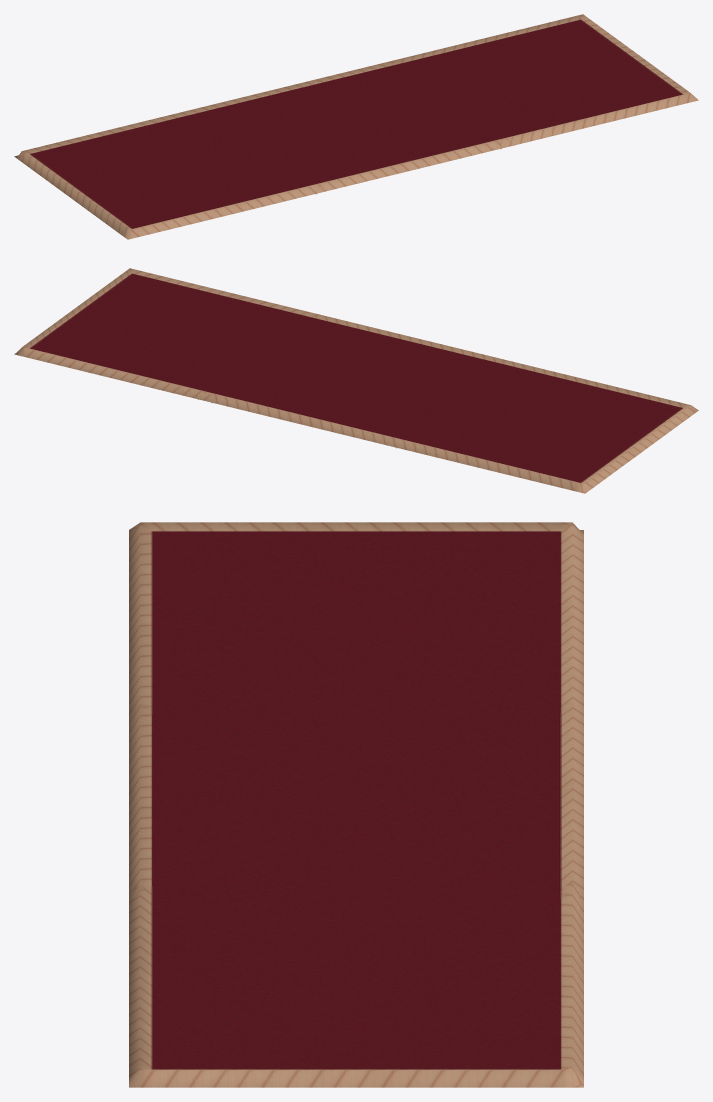
The model's file is carpet.glb.
3 views of the same model, one above another, from view 1: azimuth 30°, elevation 25°; view 2: azimuth 150°, elevation 25°; view 3: azimuth 270°, elevation 25° (orthographic). The views are drawn at different scales.
Parts seen in each view (by area): view 1: Carpet_04_2, Carpet_03_4; view 2: Carpet_04_2, Carpet_03_4; view 3: Carpet_04_2, Carpet_03_4.
Part boxes in pixels (box(x1,y1,x2,y2)): Carpet_04_2: box(14, 14, 698, 239); Carpet_03_4: box(206, 58, 514, 194); Carpet_04_2: box(14, 268, 698, 493); Carpet_03_4: box(198, 314, 506, 448); Carpet_04_2: box(129, 522, 583, 1087); Carpet_03_4: box(129, 702, 583, 906).
Bounding box in the file's own units: 2.9 × 0.035 × 1.
Materials: 1 (1 with a texture image).
